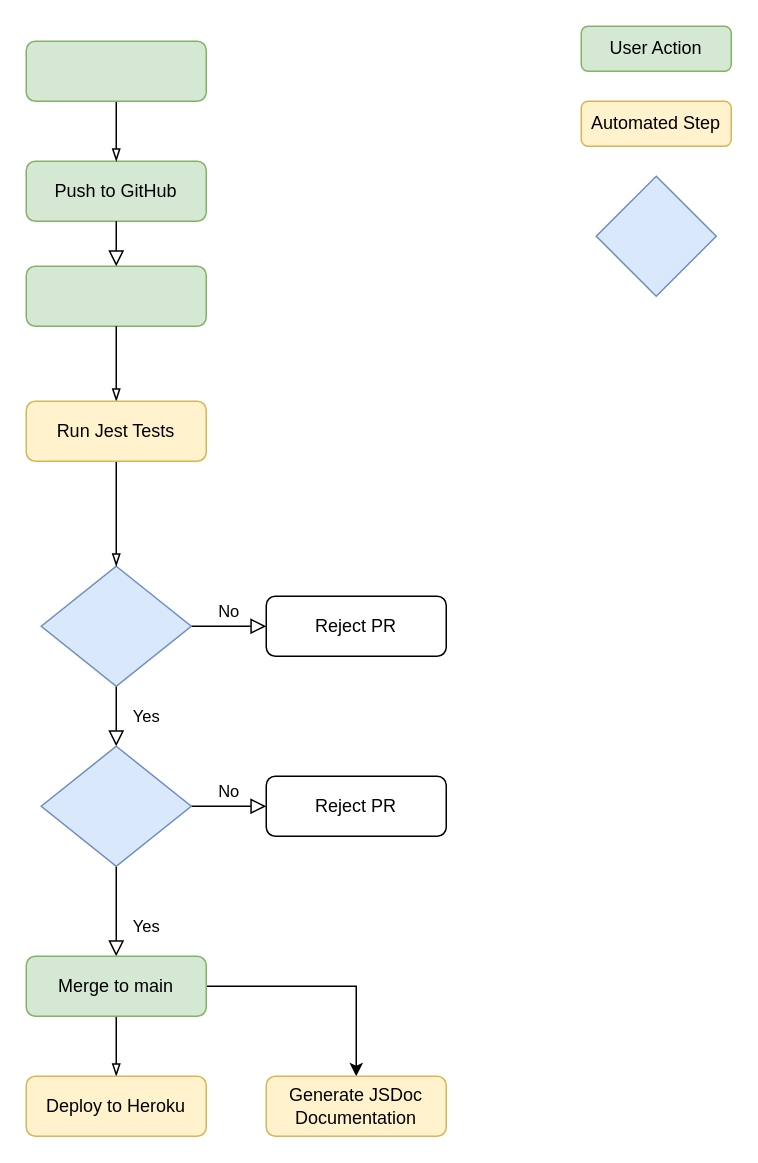
Some shapes in this 758 by 1163 pixel diagram are drawn without their labels. The shapes that lost their labels are listed below. From the top down, each one's centre as x and y in pixels, then its label:
At pixel 115 70: "New code".
At pixel 655 235: "Decision".
At pixel 115 295: "Open Pull Request".
At pixel 115 625: "Tests Pass".
At pixel 115 805: "Passes PR Review".
